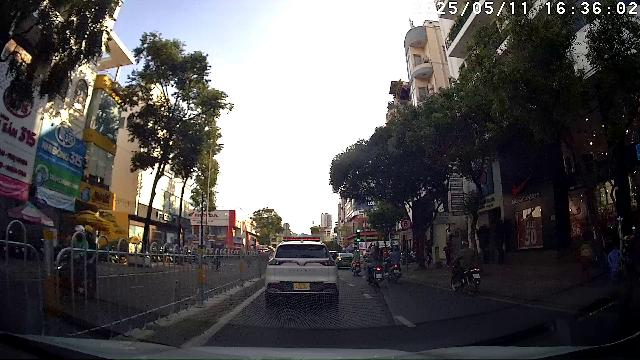124b-cam-oto-quay-dau-xe: (401, 219, 412, 229)
